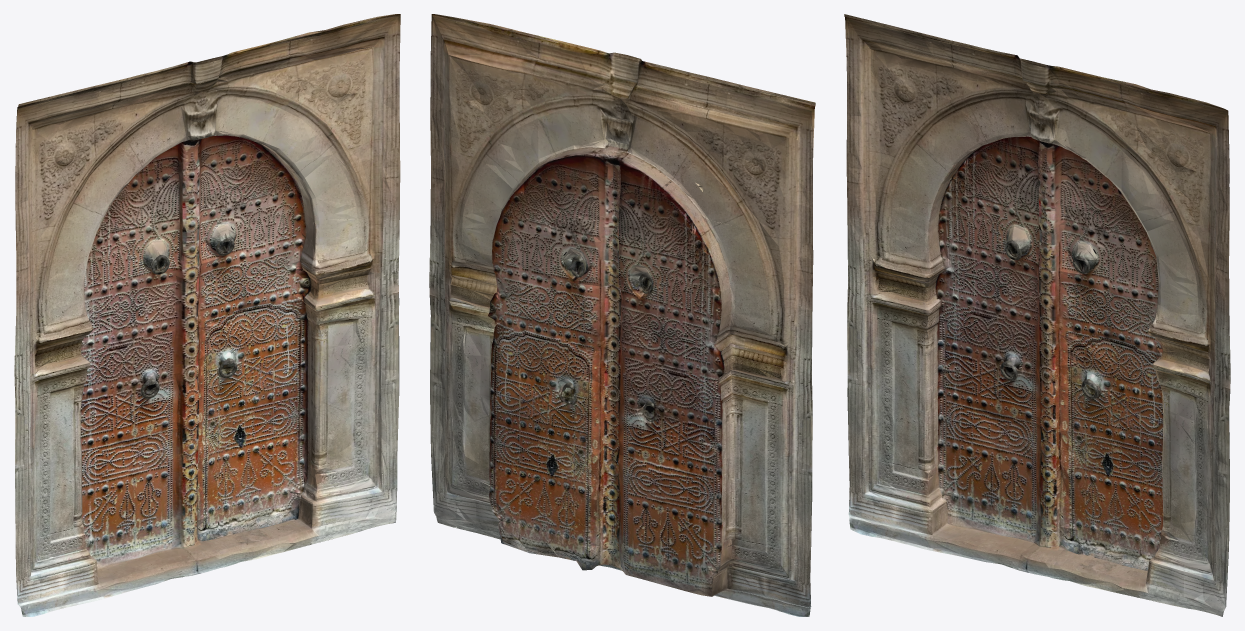
Rendered from ornamental-wooden-door-with-studded-patterns.glb.
3 views of the same model, side by side, from view 1: azimuth 30°, elevation 25°; view 2: azimuth 150°, elevation 25°; view 3: azimuth 330°, elevation 25° (orthographic).
Parts seen in each view (by area): view 1: Object_2; view 2: Object_2; view 3: Object_2.
Boxes of the visible parts, left/top/right/bottom form: Object_2: left=14, top=14, right=400, bottom=616; Object_2: left=429, top=14, right=815, bottom=616; Object_2: left=844, top=14, right=1230, bottom=616.
Size of the model in its own units: 2.82 by 3.63 by 0.2904.
Materials: 1 (1 with a texture image).
